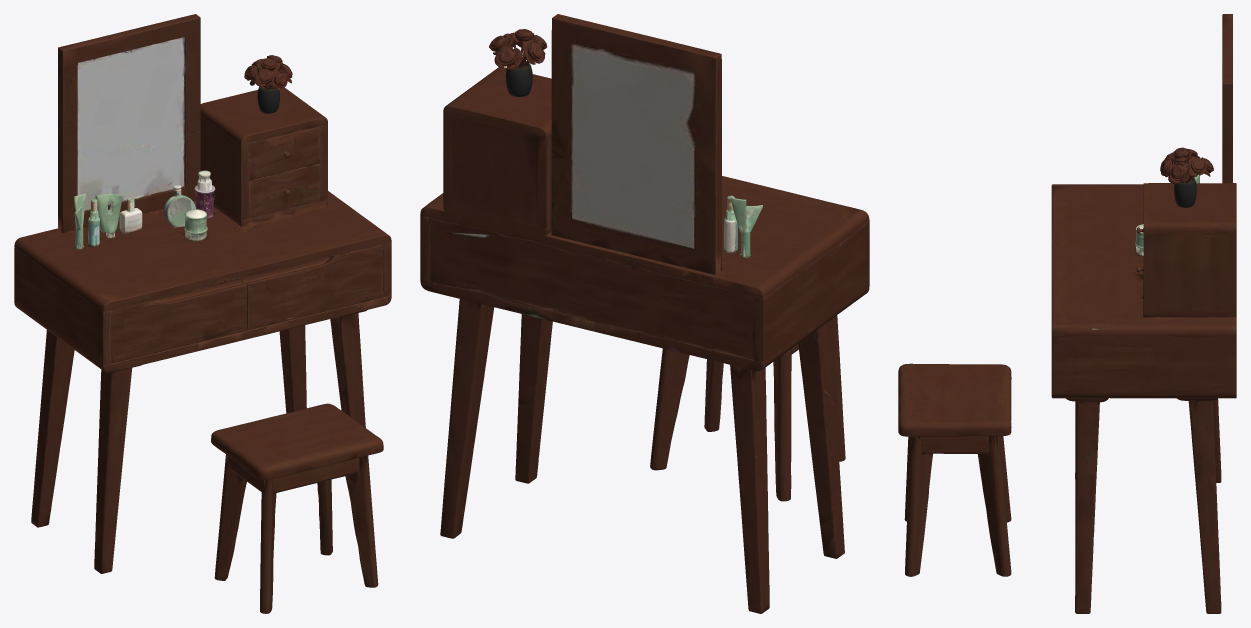
The model's file is schminktisch.glb.
3 views of the same model, side by side, from view 1: azimuth 30°, elevation 25°; view 2: azimuth 150°, elevation 25°; view 3: azimuth 270°, elevation 25° (orthographic). The views are drawn at different scales.
Size of the model in its own units: 1.24 by 1.9 by 1.22.
1 material, 1 textured.
